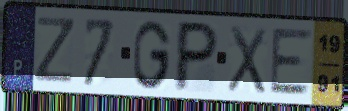7: (82, 17, 117, 88)
E: (268, 27, 315, 97)
G: (131, 18, 173, 91)
P: (171, 18, 221, 94)
X: (225, 22, 268, 97)
Z: (33, 14, 78, 86)
